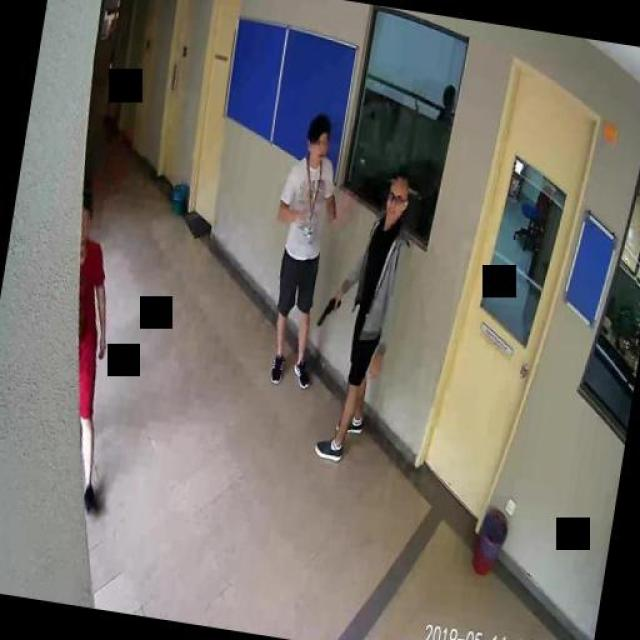gun: (315, 292, 340, 326)
